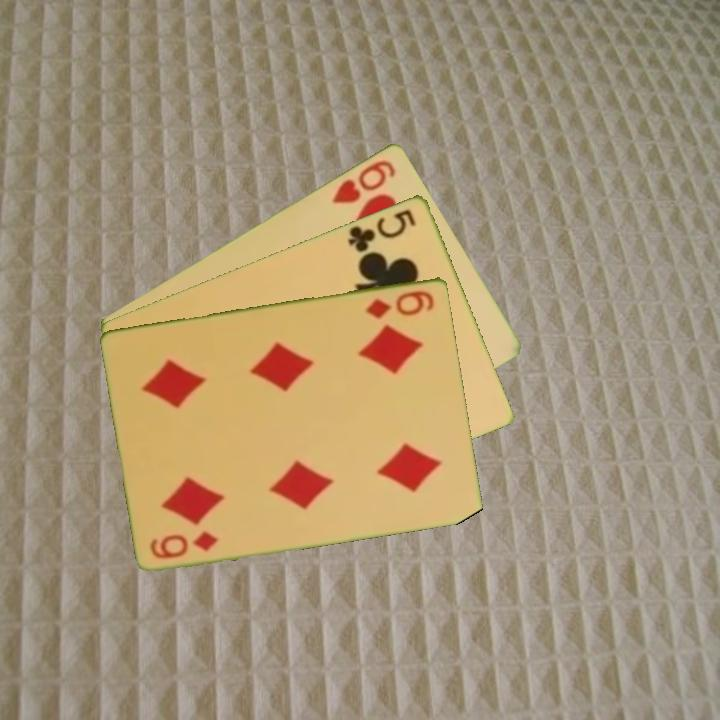5c: (344, 205, 419, 255)
6d: (362, 286, 438, 321), (147, 527, 222, 562)
6h: (328, 155, 399, 206)
